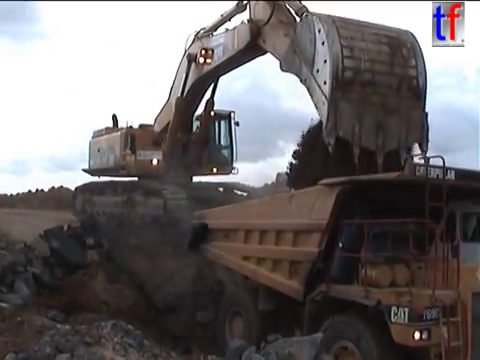excavator: (67, 1, 434, 231)
truck: (186, 149, 480, 360)
wheel loader: (263, 168, 331, 211)
